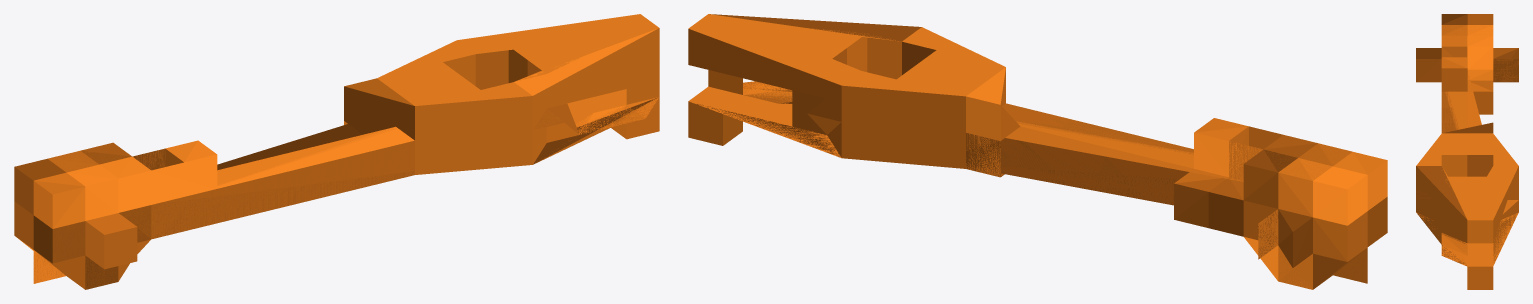
The model's file is HL_Knee.obj.
3 renders of one model, left to right at view 1: azimuth 30°, elevation 25°; view 2: azimuth 150°, elevation 25°; view 3: azimuth 270°, elevation 25°, orthographic. The views are drawn at different scales.
Visible parts, largest first — view 1: obj1; view 2: obj1; view 3: obj1.
Boxes of the visible parts, bbox=[...] form: obj1: bbox=[14, 14, 659, 289]; obj1: bbox=[688, 14, 1387, 289]; obj1: bbox=[1416, 14, 1518, 289].
Size of the model in its own units: 0.19 by 0.03 by 0.04.
